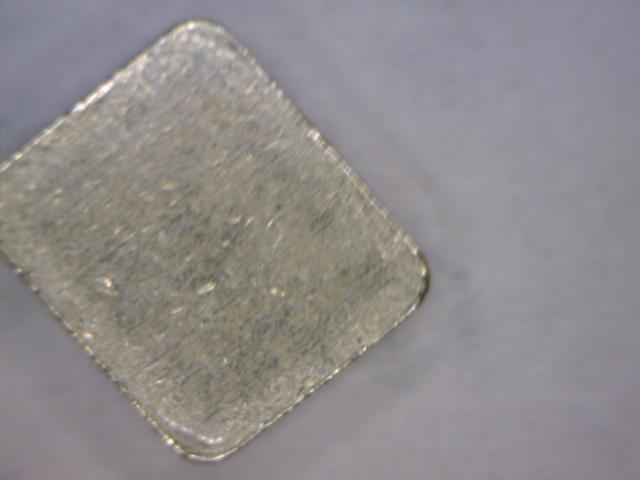ok: (2, 14, 438, 466)
